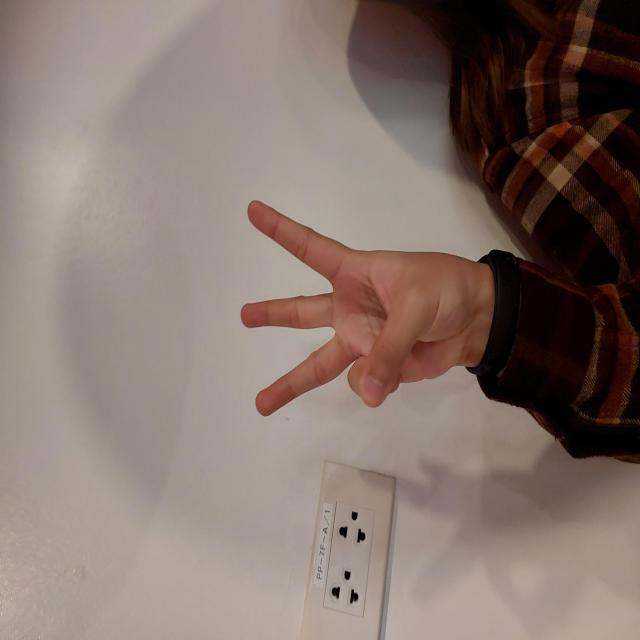W: (220, 237, 442, 479)
